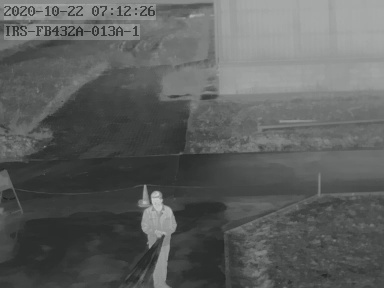person: (142, 190, 178, 288)
